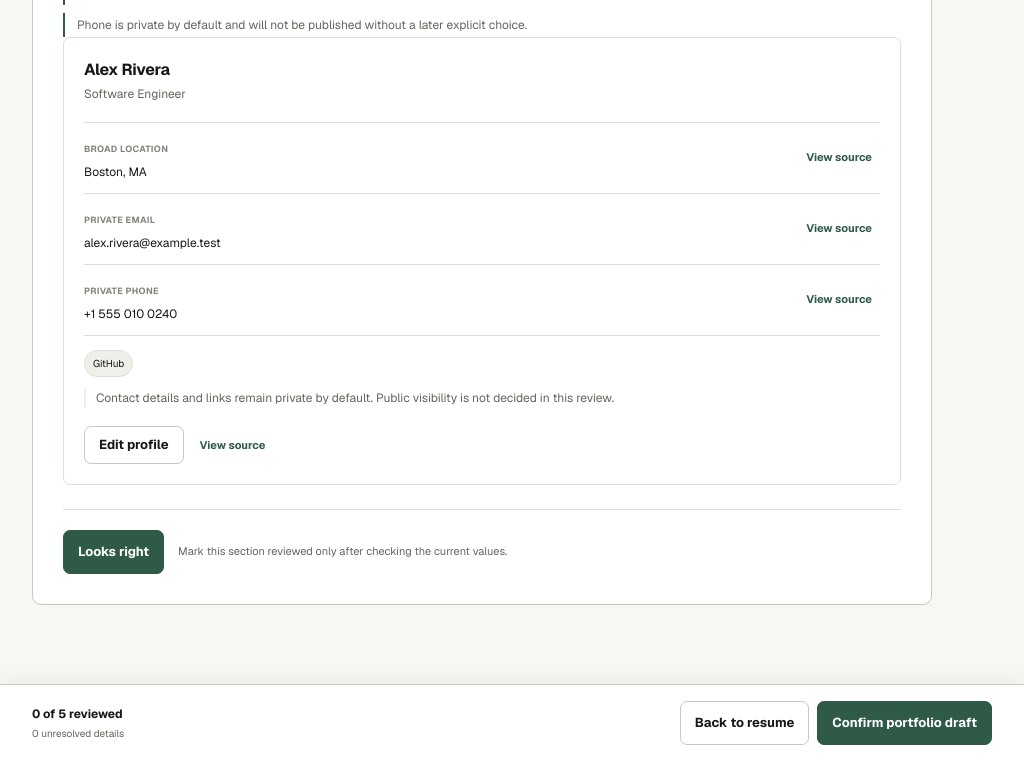
resume guided review › edits with cancel and save semantics, then resets explicit approval
The width and height of the screenshot is (1024, 761).
(page scrolled)
Click the button "Looks right": (114, 552) [63,530,164,574]
(page scrolled)
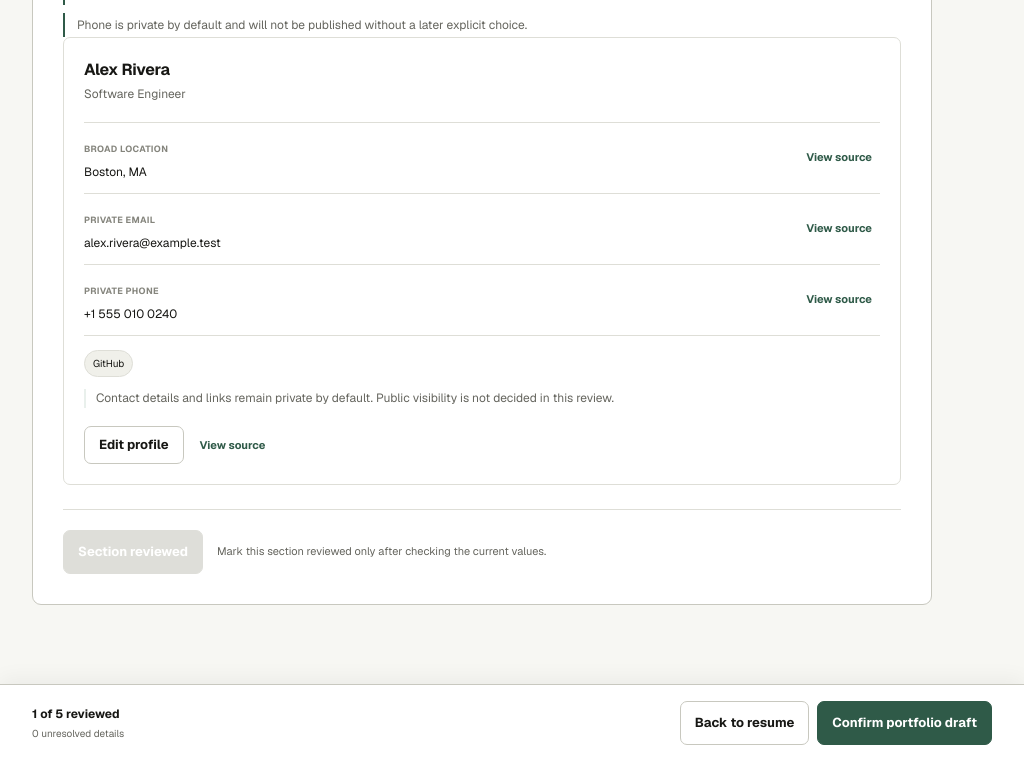
Click the button "Edit profile": (134, 445) [84,426,184,464]
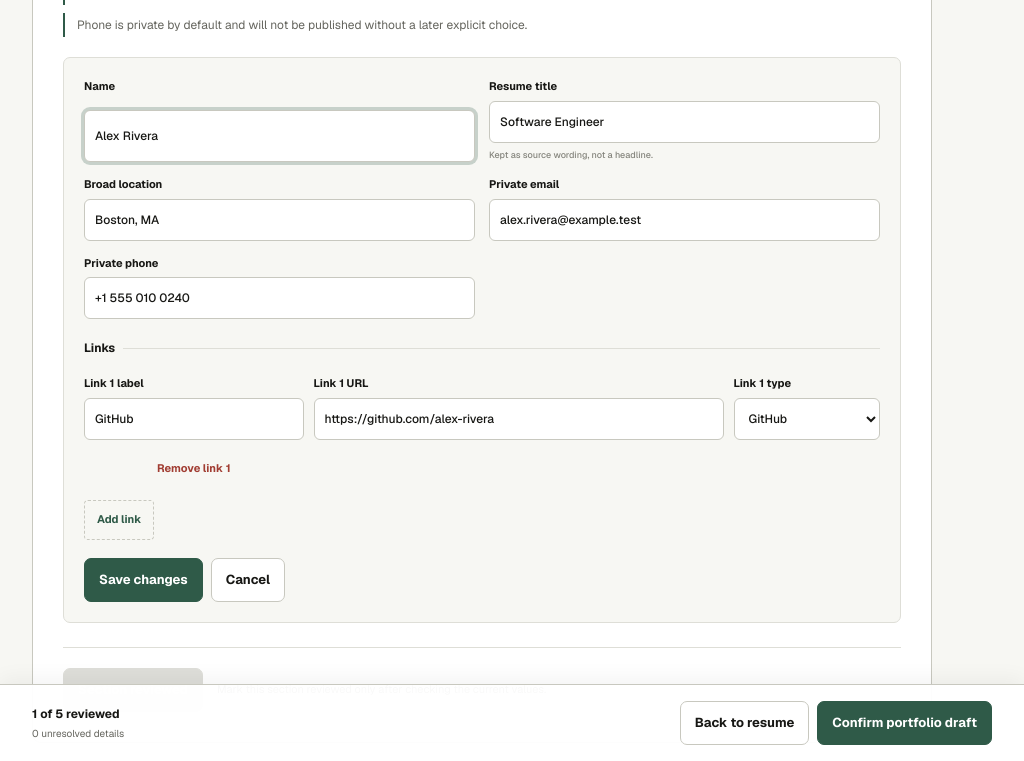
Replace the text in the field labelled "Name" with "Changed Name": (280, 136) [84,110,475,162]
Click the button "Cancel": (248, 580) [211,558,285,602]
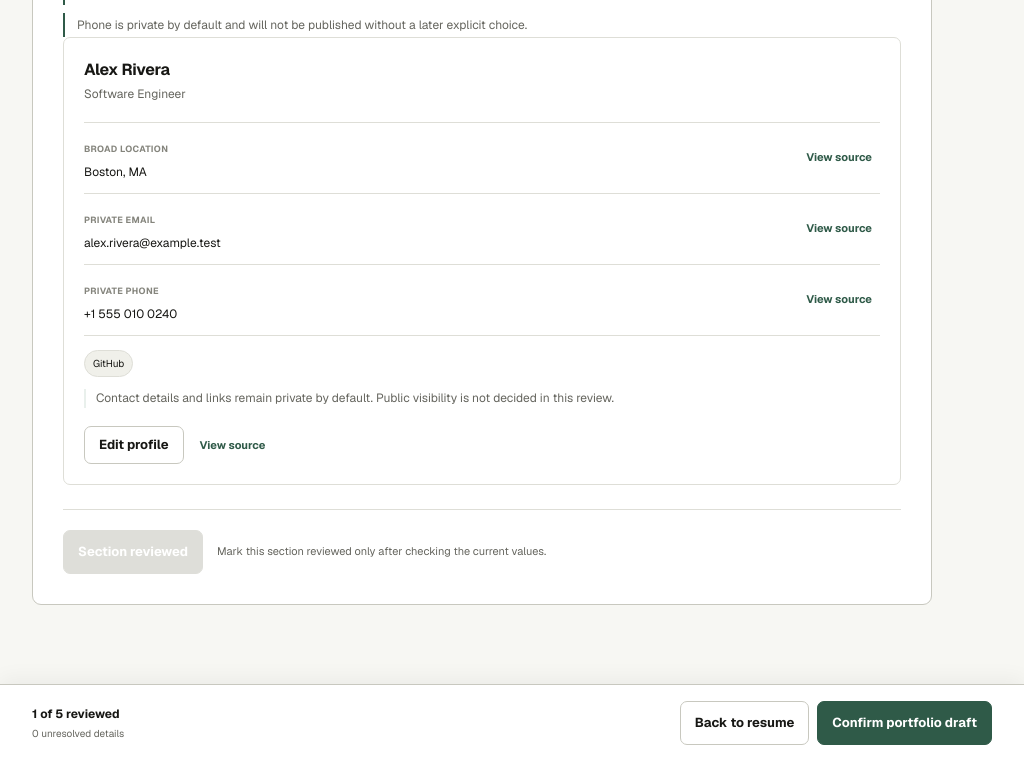
Expected: the heading "Alex Rivera" is shown, [84,59,170,80]
Click the button "Edit profile": (134, 445) [84,426,184,464]
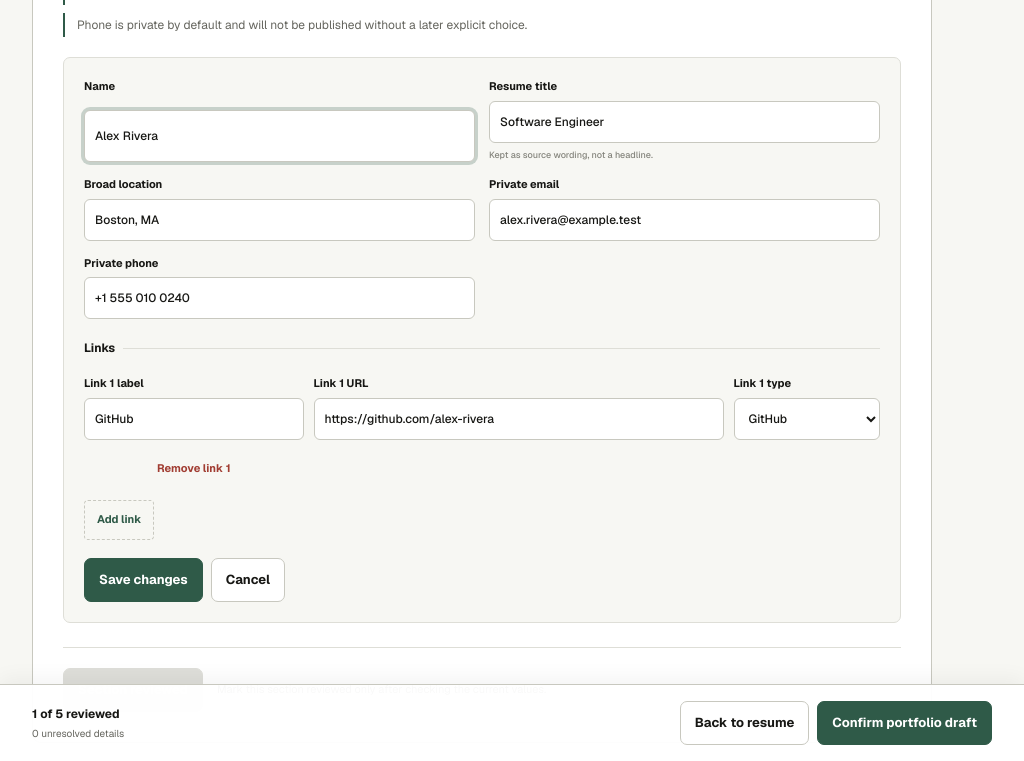
Replace the text in the field labelled "Name" with "Changed Name": (280, 136) [84,110,475,162]
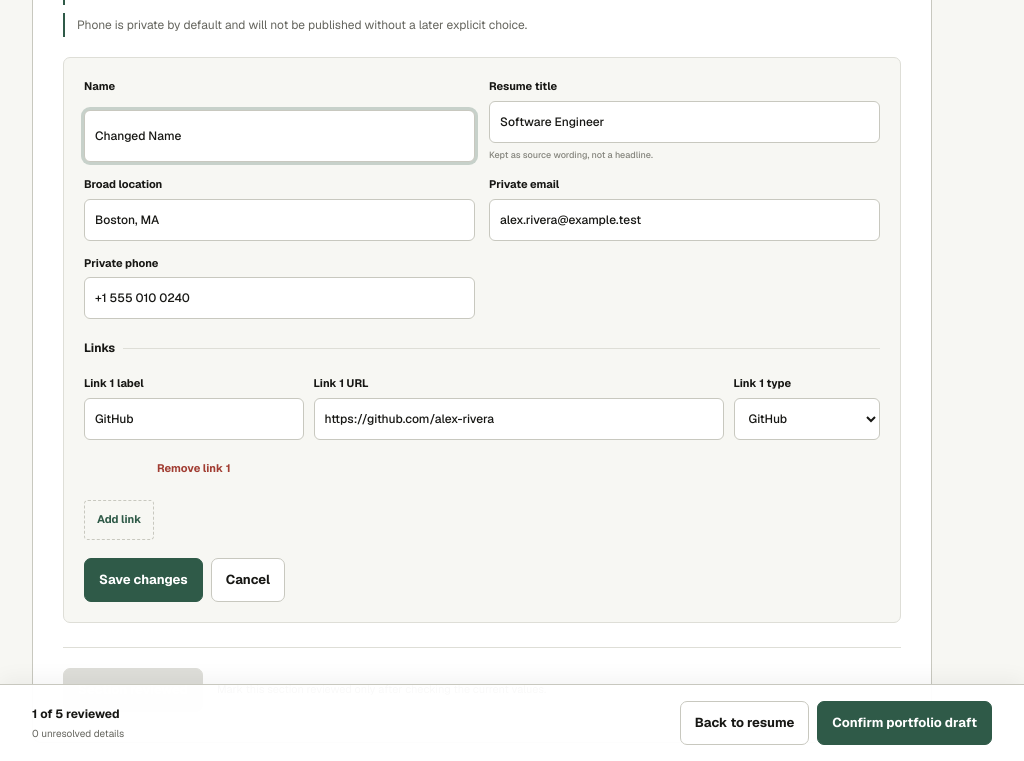
Click the button "Save changes": (143, 580) [84,558,203,602]
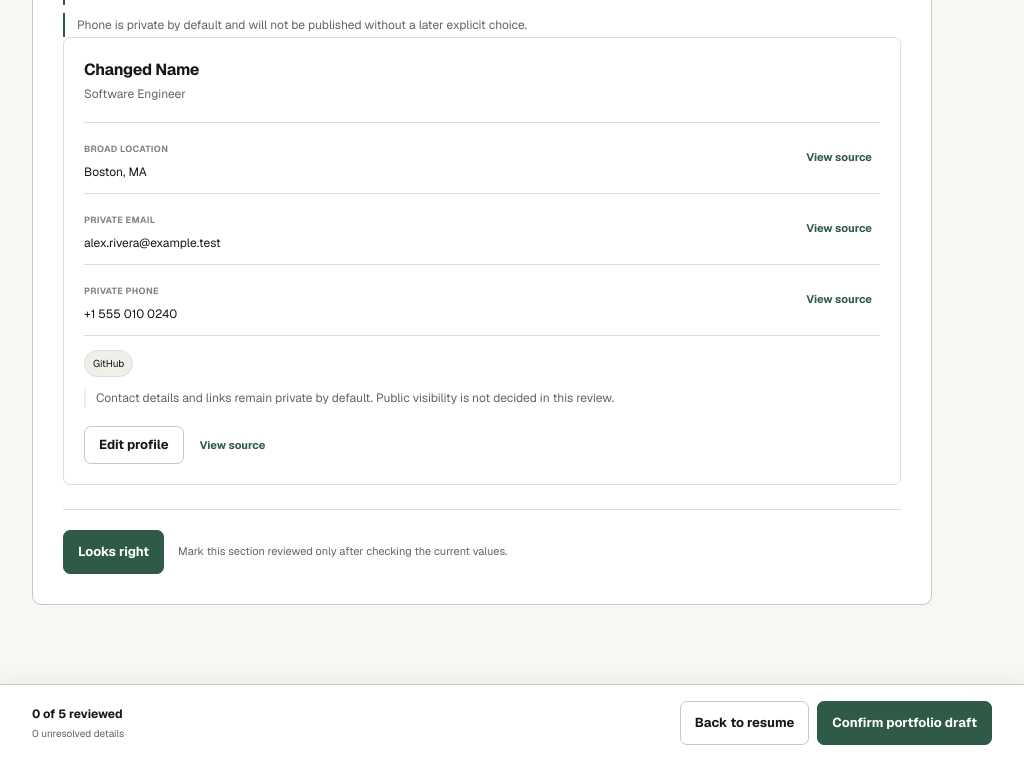
Expected: the heading "Changed Name" is shown, [84,58,199,82]
